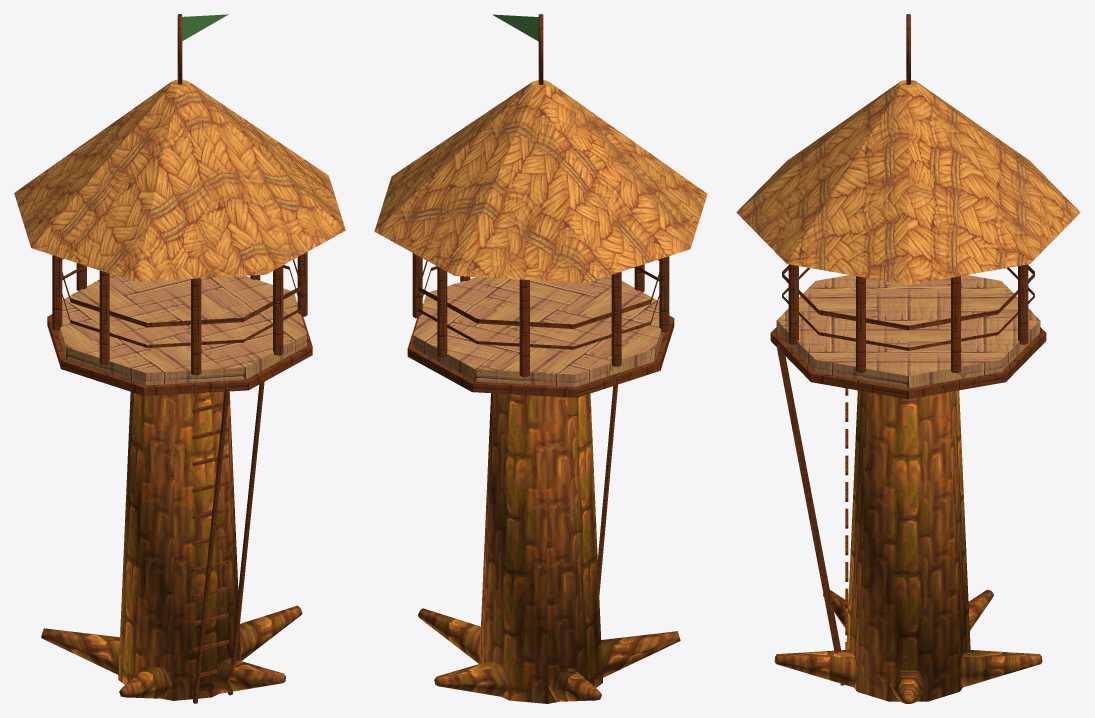
Rendered from tower.glb.
3 views of the same model, side by side, from view 1: azimuth 30°, elevation 25°; view 2: azimuth 150°, elevation 25°; view 3: azimuth 270°, elevation 25° (orthographic).
Visible parts, largest first — view 1: tower; view 2: tower; view 3: tower.
Part boxes in pixels (left/top/right/bottom): tower: left=14, top=14, right=345, bottom=703; tower: left=374, top=14, right=707, bottom=703; tower: left=736, top=14, right=1080, bottom=703.
Size of the model in its own units: 6.8 by 14.43 by 6.8.
5 materials, 4 textured.
